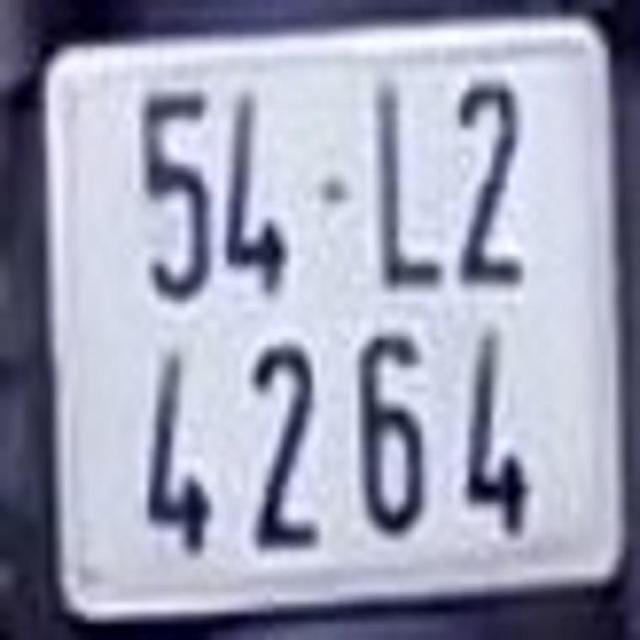2: (246, 336, 323, 552), (455, 76, 528, 289)
4: (140, 344, 217, 560), (221, 85, 293, 301), (462, 322, 532, 540)
5: (134, 86, 215, 305)
6: (356, 327, 428, 538)
L: (366, 74, 447, 291)
